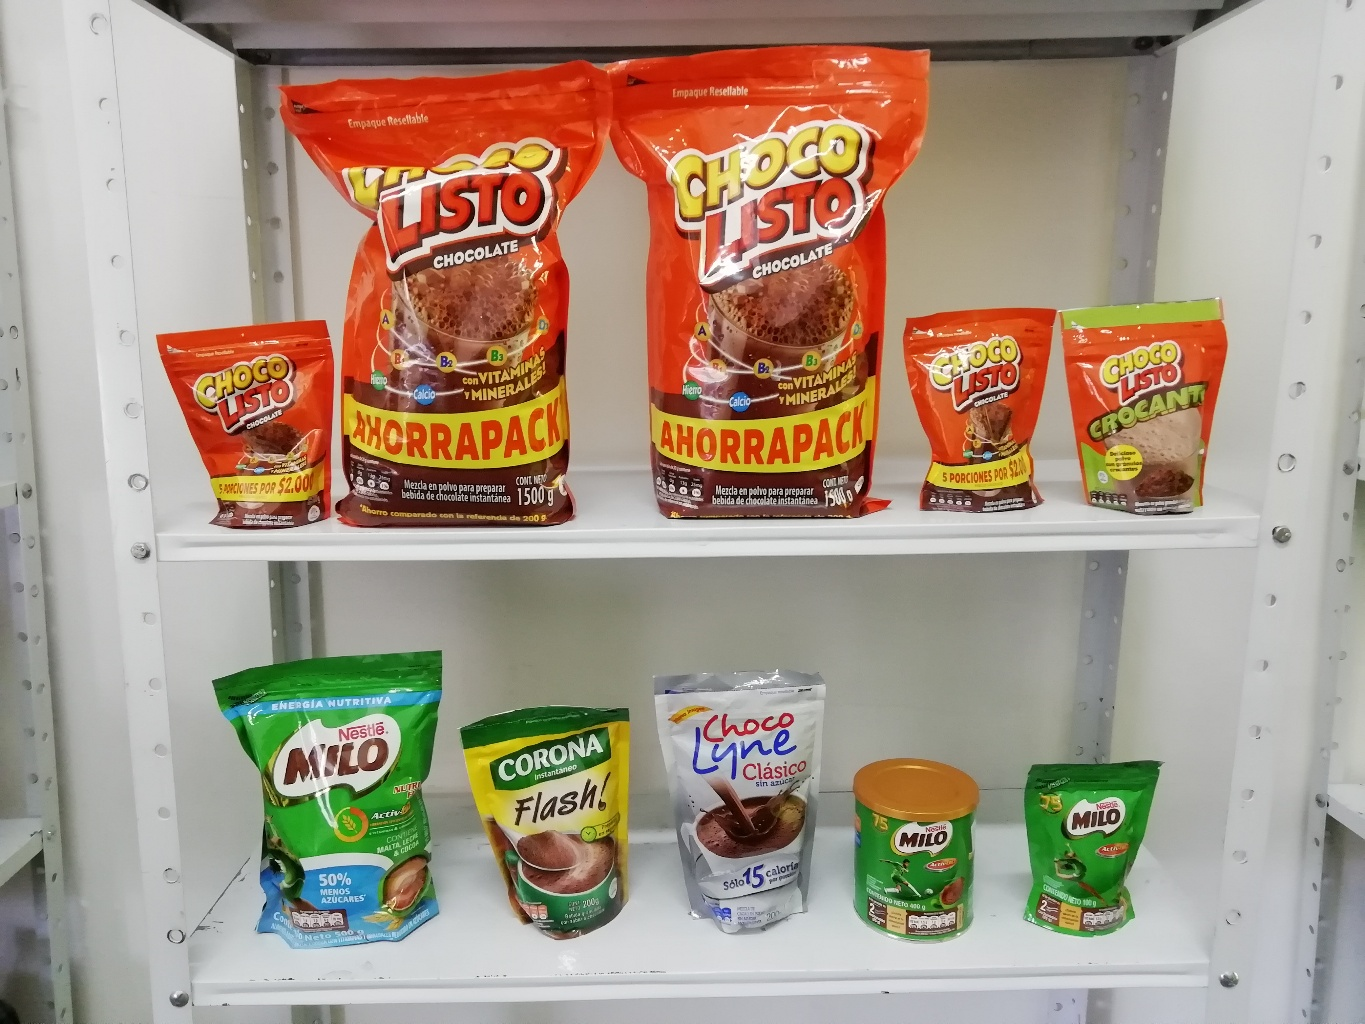COL0170102DYP10000: (1064, 298, 1235, 520)
COL0170103DYP1,500: (608, 39, 929, 520)
COL0170203DYP10000: (1018, 764, 1163, 941)
COL0170203LAT40000: (838, 742, 991, 943)
COL0170205DYP50000: (210, 639, 460, 964)
